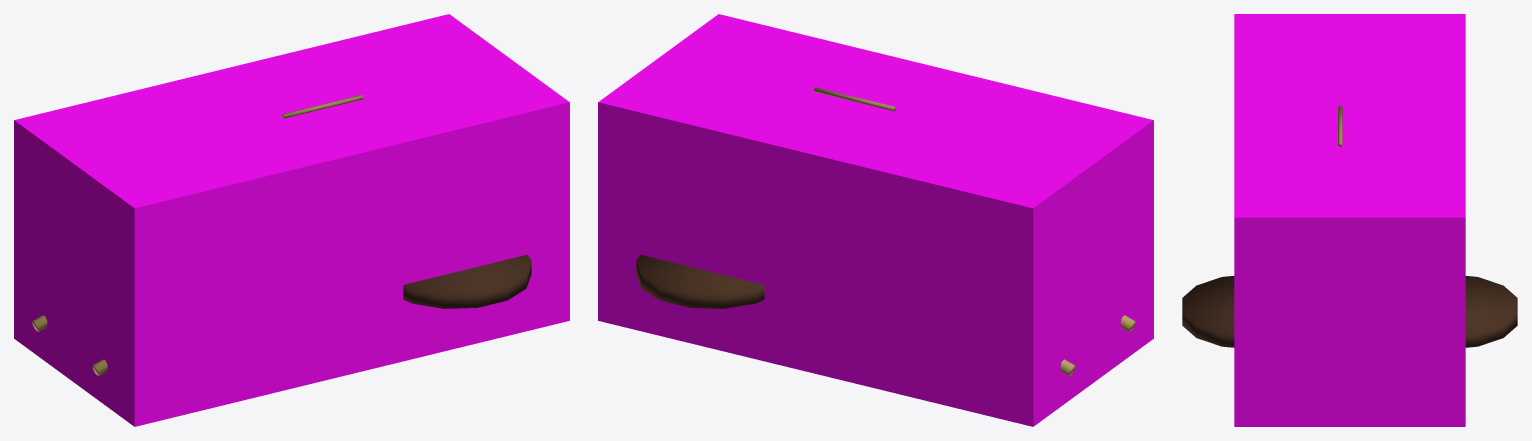
Rendered from PRP_Goods_Packed_A.glb.
3 views of the same model, side by side, from view 1: azimuth 30°, elevation 25°; view 2: azimuth 150°, elevation 25°; view 3: azimuth 270°, elevation 25° (orthographic). The views are drawn at different scales.
Visible parts, largest first — view 1: COL_Cart, PRP_Goods_Packed_A_Mesh; view 2: COL_Cart, PRP_Goods_Packed_A_Mesh; view 3: COL_Cart, PRP_Goods_Packed_A_Mesh.
Boxes of the visible parts, x1=… form: COL_Cart: x1=14, y1=14, x2=569, y2=426; PRP_Goods_Packed_A_Mesh: x1=32, y1=94, x2=531, y2=375; COL_Cart: x1=598, y1=14, x2=1153, y2=426; PRP_Goods_Packed_A_Mesh: x1=636, y1=87, x2=1135, y2=375; COL_Cart: x1=1234, y1=14, x2=1465, y2=426; PRP_Goods_Packed_A_Mesh: x1=1182, y1=105, x2=1517, y2=347.
Size of the model in its own units: 2.56 by 1.22 by 1.74.
